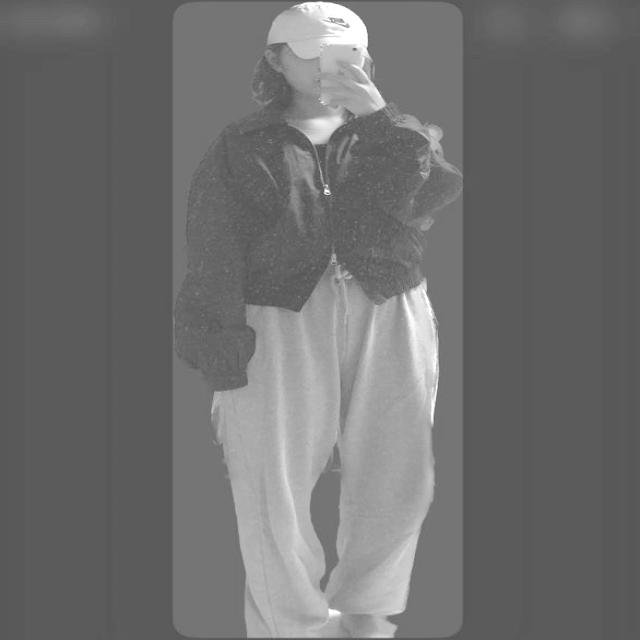trainingpants: (217, 257, 446, 635)
zipup: (178, 108, 466, 394)
